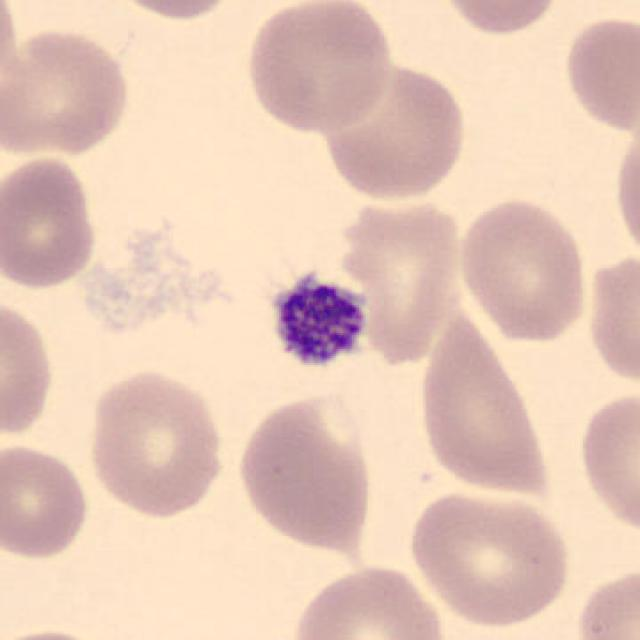Platelets: (262, 266, 372, 378)
RBC: (412, 305, 556, 501), (326, 188, 470, 366), (404, 485, 576, 629), (233, 390, 379, 557), (317, 56, 471, 205), (84, 365, 228, 522), (453, 192, 592, 346), (240, 0, 396, 136), (0, 23, 133, 159), (0, 151, 101, 292), (288, 560, 450, 640), (0, 438, 92, 562), (574, 386, 640, 543), (560, 11, 638, 138), (0, 294, 59, 444), (583, 245, 638, 390), (570, 560, 640, 640), (436, 0, 566, 39), (610, 113, 640, 264), (99, 0, 249, 23), (0, 0, 23, 97), (0, 624, 116, 640)
